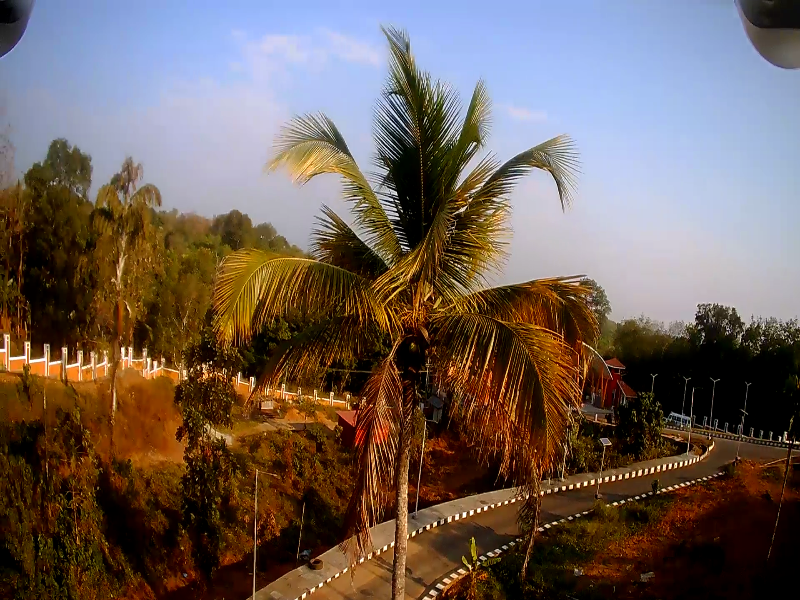coconut: (403, 340, 417, 353)
